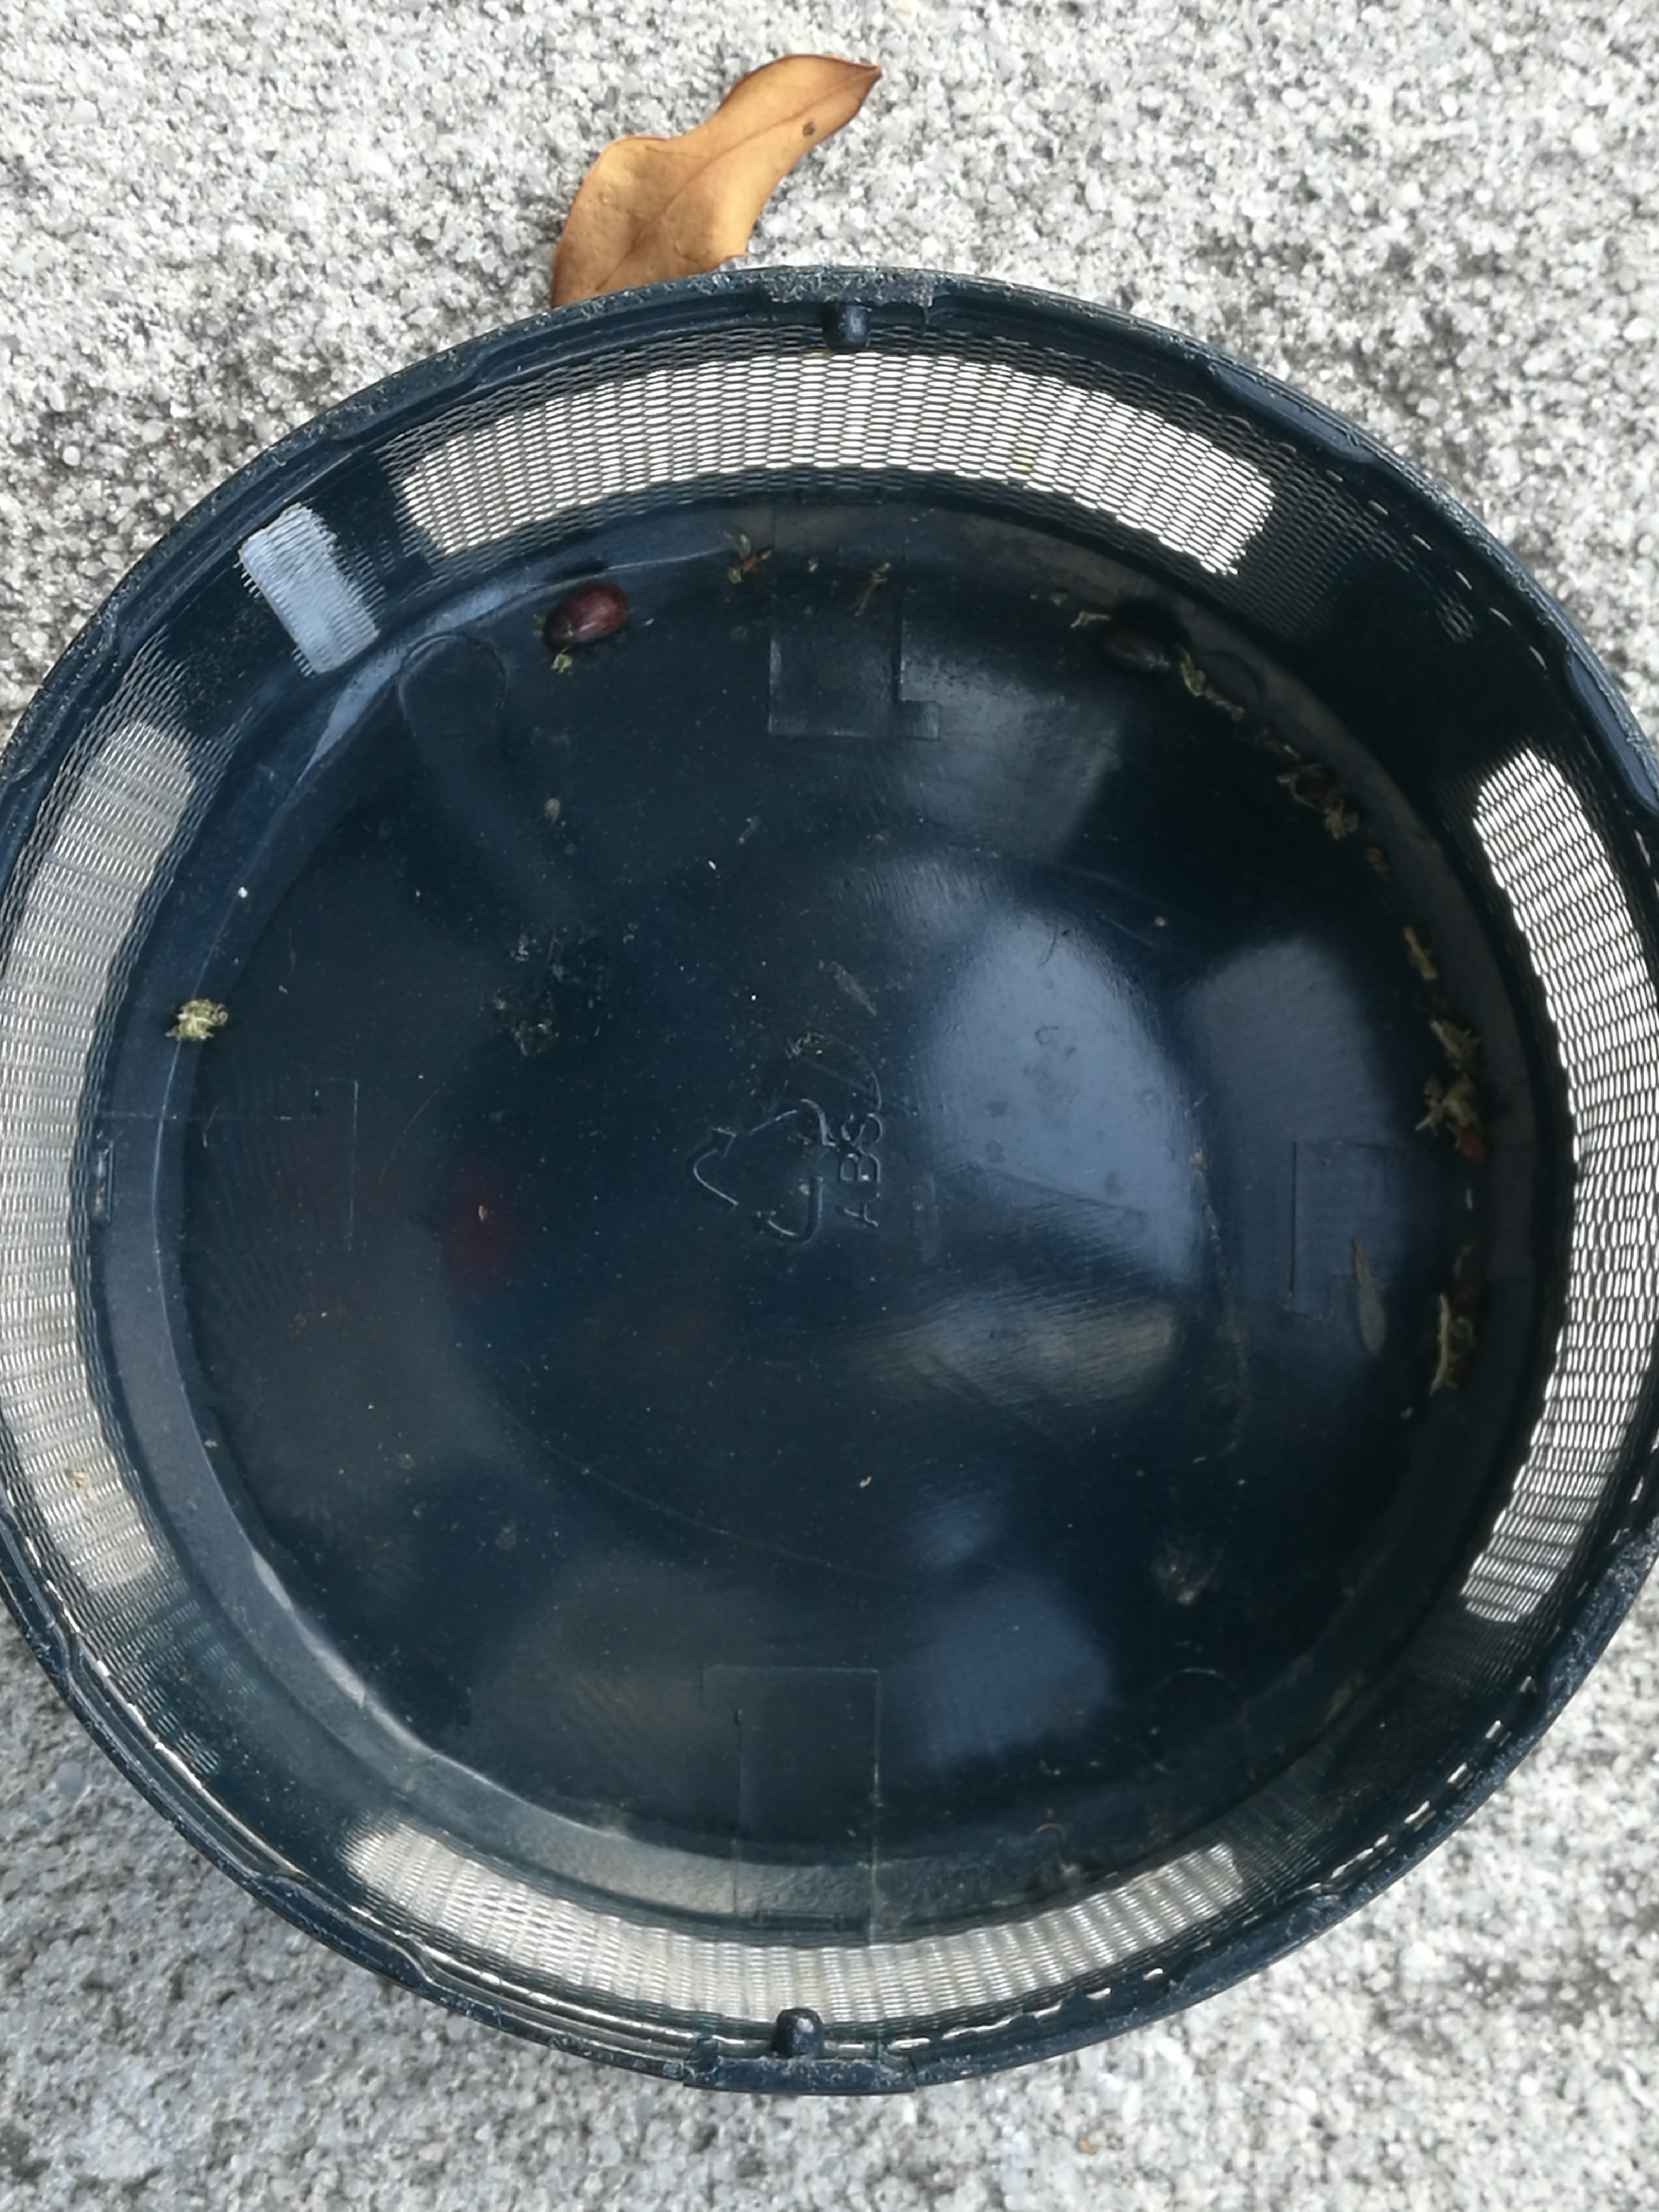beetle: (544, 583, 626, 646), (1100, 624, 1178, 678)
